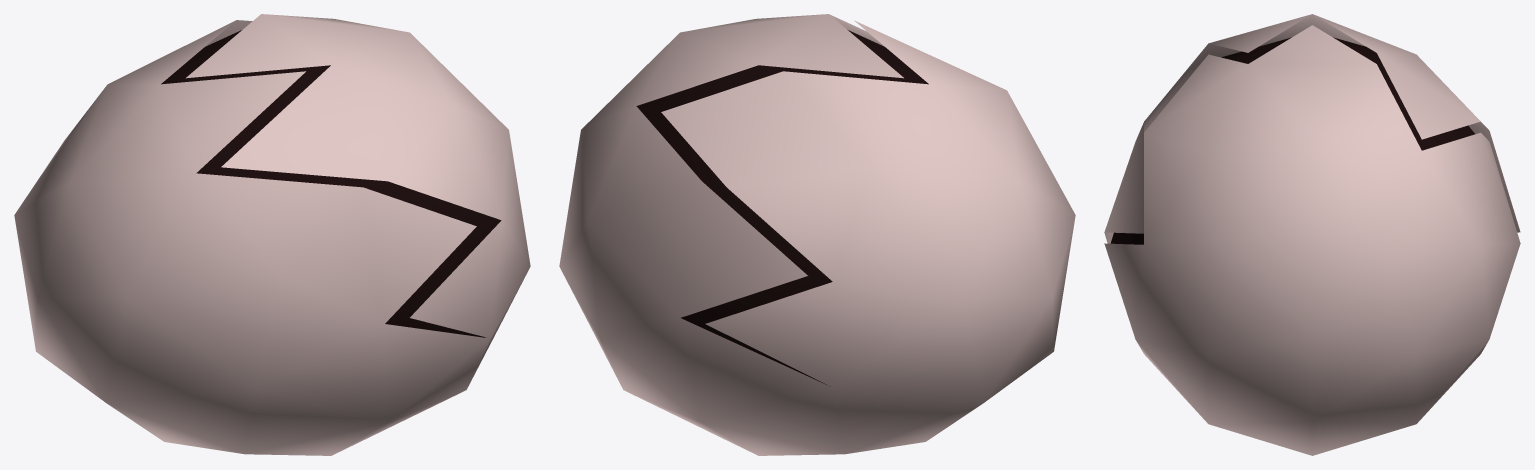
Rendered from egg cracked 1.fbx.
The picture shows the model from 3 angles, left to right: view 1: azimuth 30°, elevation 25°; view 2: azimuth 150°, elevation 25°; view 3: azimuth 270°, elevation 25°; orthographic projection. The views are drawn at different scales.
Visible parts, largest first — view 1: egg cracked 1; view 2: egg cracked 1; view 3: egg cracked 1.
Boxes of the visible parts, <box> form: egg cracked 1: <box>14,14,530,455</box>; egg cracked 1: <box>559,14,1075,455</box>; egg cracked 1: <box>1104,14,1520,455</box>.
Bounding box in the file's own units: 0.2367 × 0.1897 × 0.1995.
